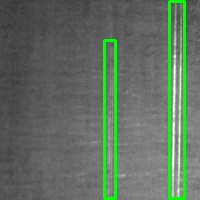scratches: (169, 1, 184, 198), (104, 40, 115, 198)
